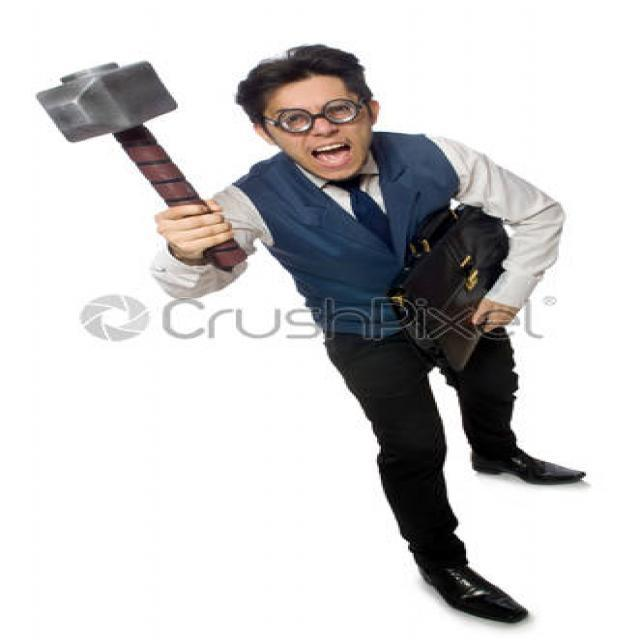hammer: (30, 56, 258, 274)
